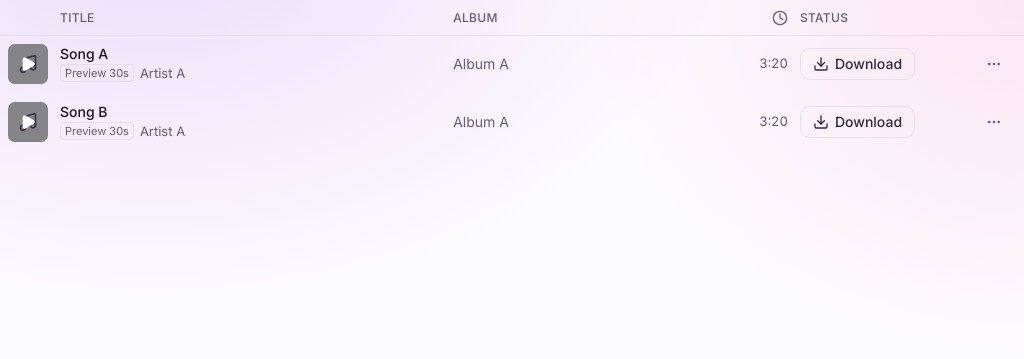
Test: TrackList and the row menu › offers Add to playlist in the menu of a viewer who has playlists
The image size is (1024, 359).
Check: the link "Song A" is shown, box [60,45,108,62]
Click the button named "More actions for".
click(994, 64)  # box [972,42,1016,86]
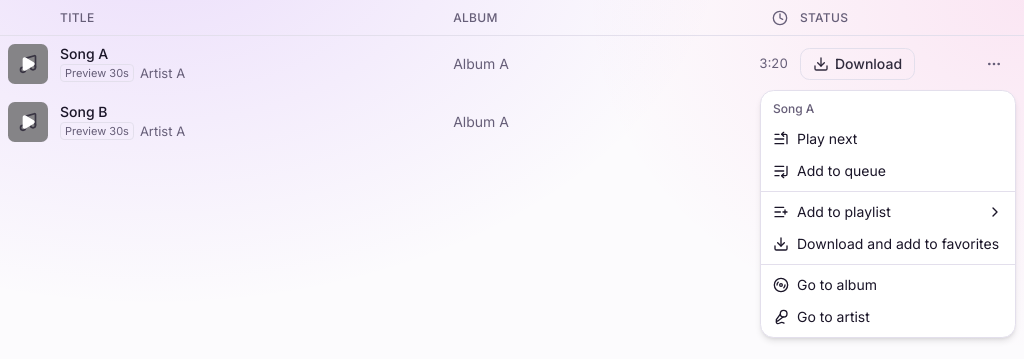
Check: the menu item "Add to playlist" is shown, box [773,203,1003,220]
